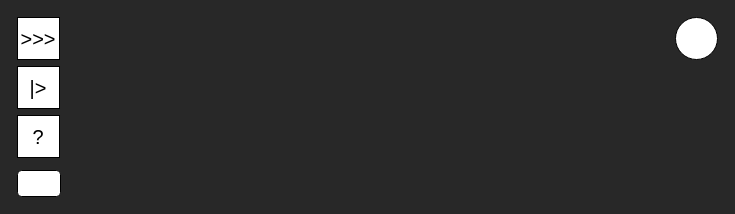
The diagram is 735 pixels wide and 214 high, and some of its shapes have lost their labels. Here are the shapes that lost their labels. From the top down, the centre of each, then its label:
pixel 696 38: START
pixel 38 183: action
